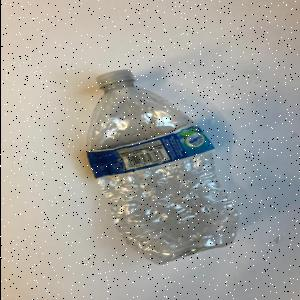Plastic-bottle: (86, 70, 243, 268)
